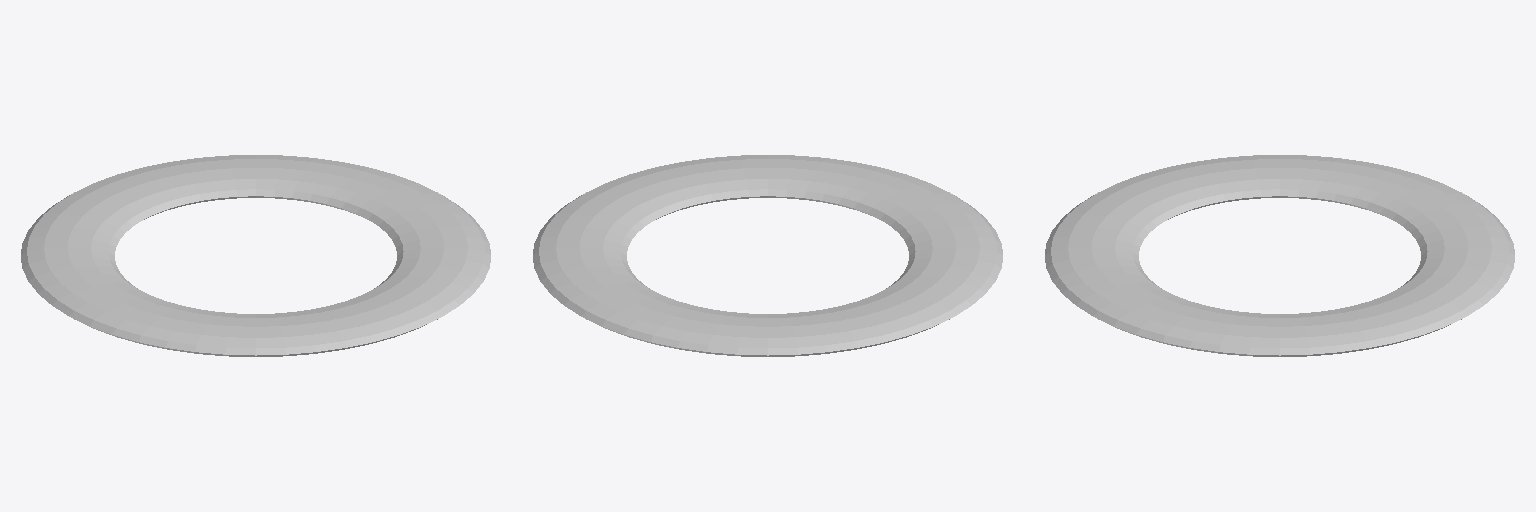
Rendered from ring.obj.
The picture shows the model from 3 angles: view 1: azimuth 30°, elevation 25°; view 2: azimuth 150°, elevation 25°; view 3: azimuth 270°, elevation 25°; orthographic projection.
Parts seen in each view (by area): view 1: Torus; view 2: Torus; view 3: Torus.
Part boxes in pixels (bbox=[...]): Torus: bbox=[21, 155, 490, 356]; Torus: bbox=[533, 155, 1002, 356]; Torus: bbox=[1045, 155, 1514, 356].
Bounding box in the file's own units: 2.5 × 0.1023 × 2.5.